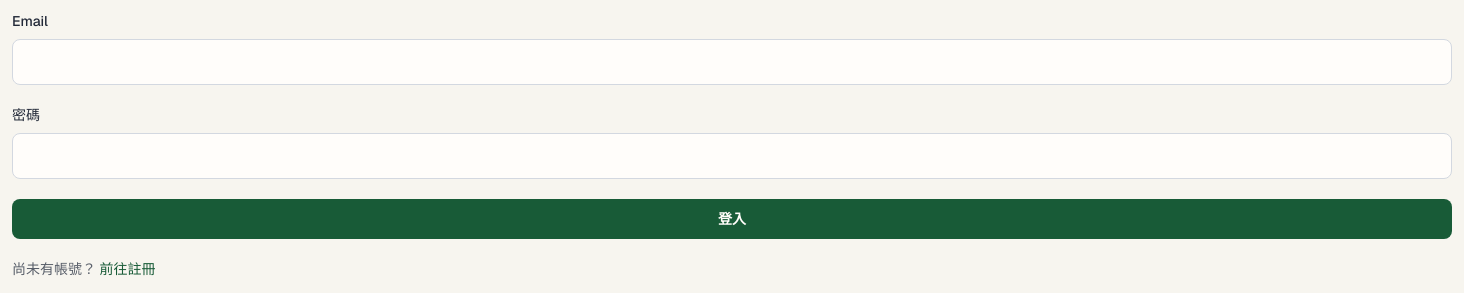
Test: LoginForm › 送出期間按鈕顯示「登入中...」且 disabled
Type "user@example.com" into the field labelled "Email". click: (732, 62)
box: [12,39,1452,85]
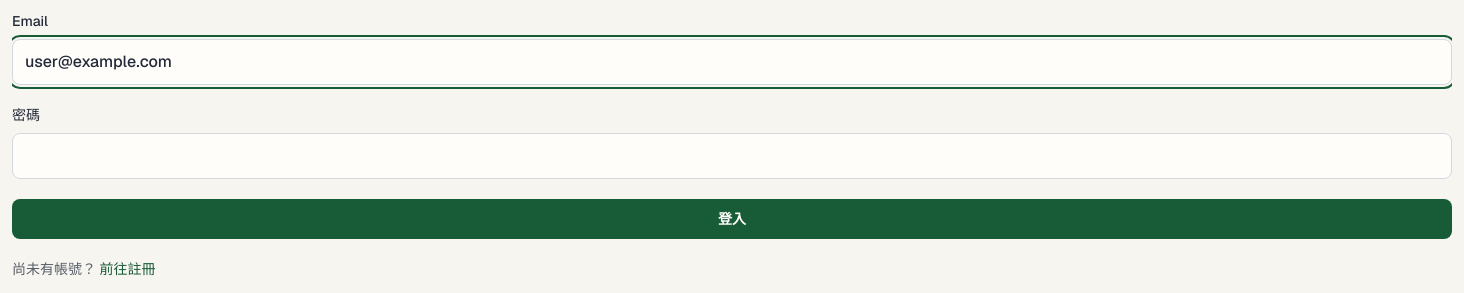
Type "password123" into the password field labelled "密碼". click: (732, 156)
box: [12,133,1452,179]
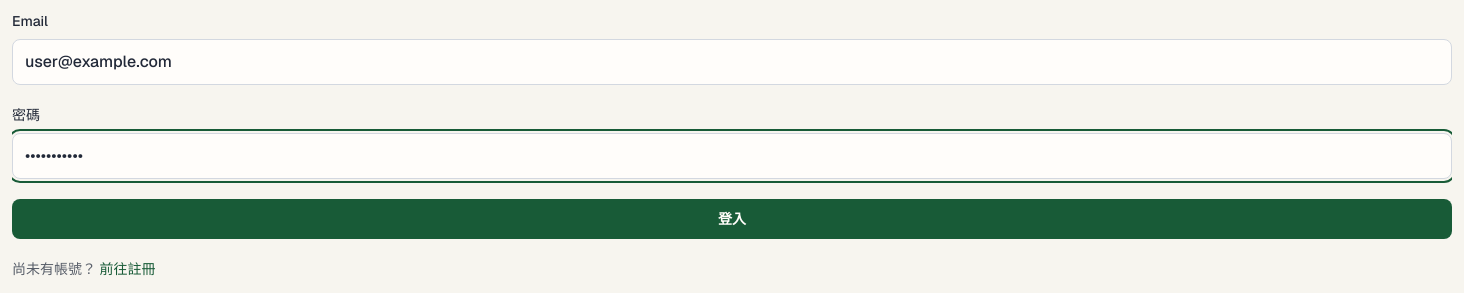
Click the button "登入". click: click(732, 219)
box: [12,199,1452,239]
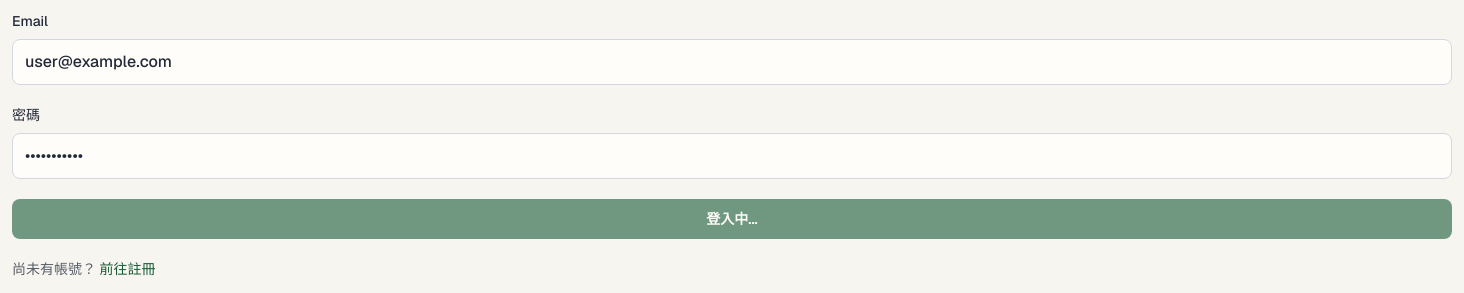
Expected: the button "登入中..." is disabled, [12,199,1452,239]
